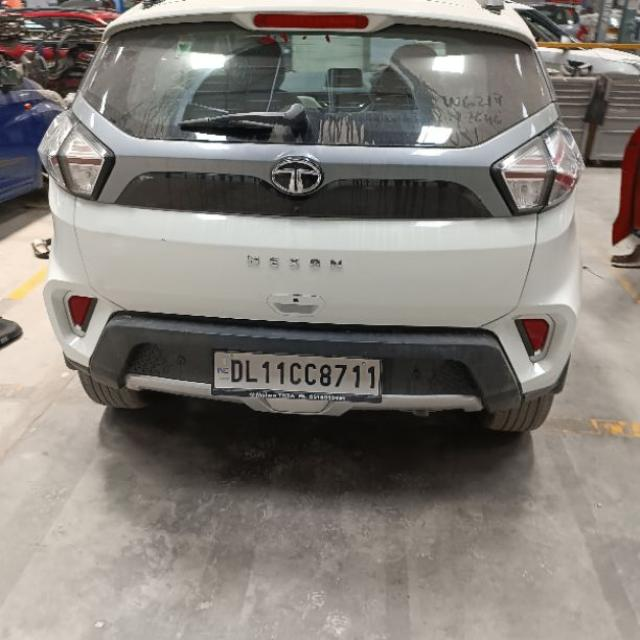license_plate: (210, 349, 383, 403)
